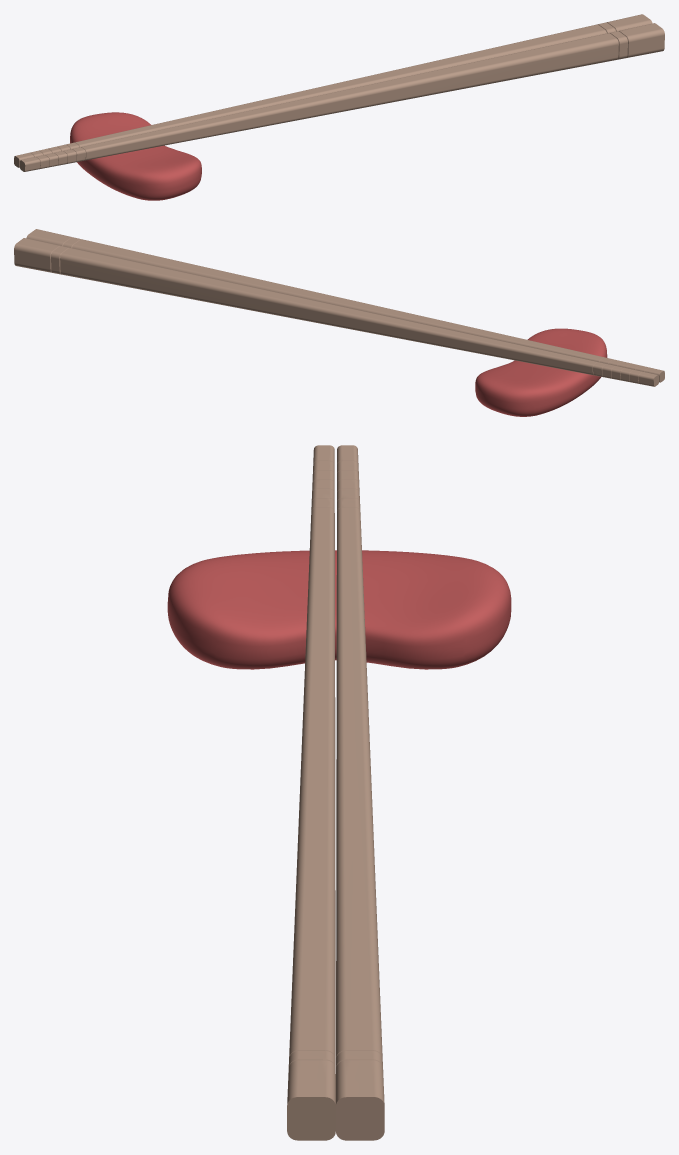
Rendered from 307_箸置き箸.glb.
The picture shows the model from 3 angles, top to bottom: view 1: azimuth 30°, elevation 25°; view 2: azimuth 150°, elevation 25°; view 3: azimuth 270°, elevation 25°; orthographic projection. The views are drawn at different scales.
Visible parts, largest first — view 1: 098_箸, Body; view 2: 098_箸, Body; view 3: 098_箸, Body.
Boxes of the visible parts, x1,y1,x2,y2 form: 098_箸: (14, 14, 664, 171); Body: (70, 112, 201, 200); 098_箸: (14, 229, 664, 386); Body: (475, 328, 607, 416); 098_箸: (287, 445, 384, 1140); Body: (167, 550, 511, 669).
Bounding box in the file's own units: 0.2101 × 0.0132 × 0.0493.
